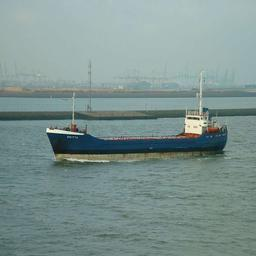Ship: (45, 100, 234, 164)
